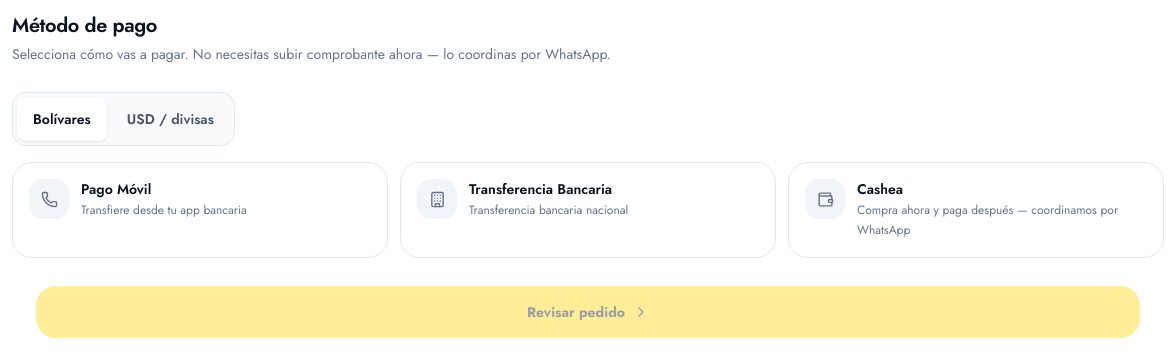
PaymentForm currency groups › Binance sin Pay ID aparece en UI WhatsApp
Click the tab "USD / divisas".
click(170, 119)  # box [111,97,230,141]
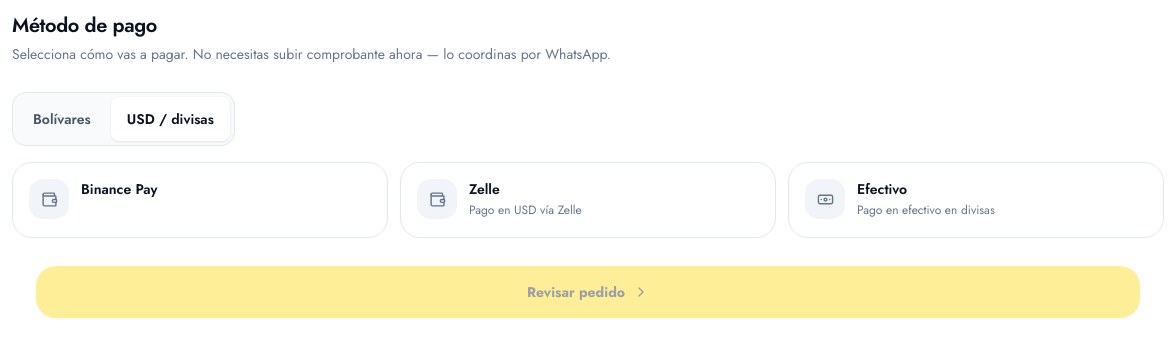
expect the button "Binance Pay" is shown: met, box [12,162,388,238]
